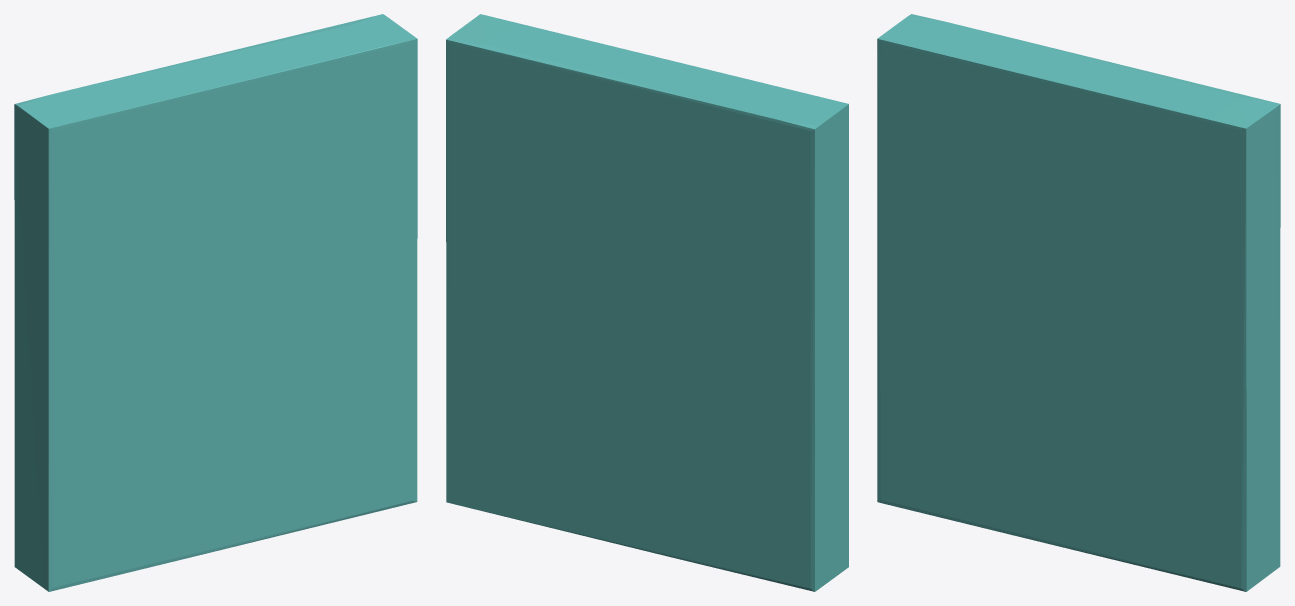
The model's file is pallet_block_a08.glb.
3 renders of one model, left to right at view 1: azimuth 30°, elevation 25°; view 2: azimuth 150°, elevation 25°; view 3: azimuth 330°, elevation 25°, orthographic.
Visible parts, largest first — view 1: geometry_0; view 2: geometry_0; view 3: geometry_0.
Part boxes in pixels (box(x1,y1,x2,y2)): geometry_0: box(14, 14, 417, 591); geometry_0: box(446, 14, 848, 591); geometry_0: box(877, 14, 1280, 591).
Size of the model in its own units: 0.3998 by 0.48 by 0.0647.
